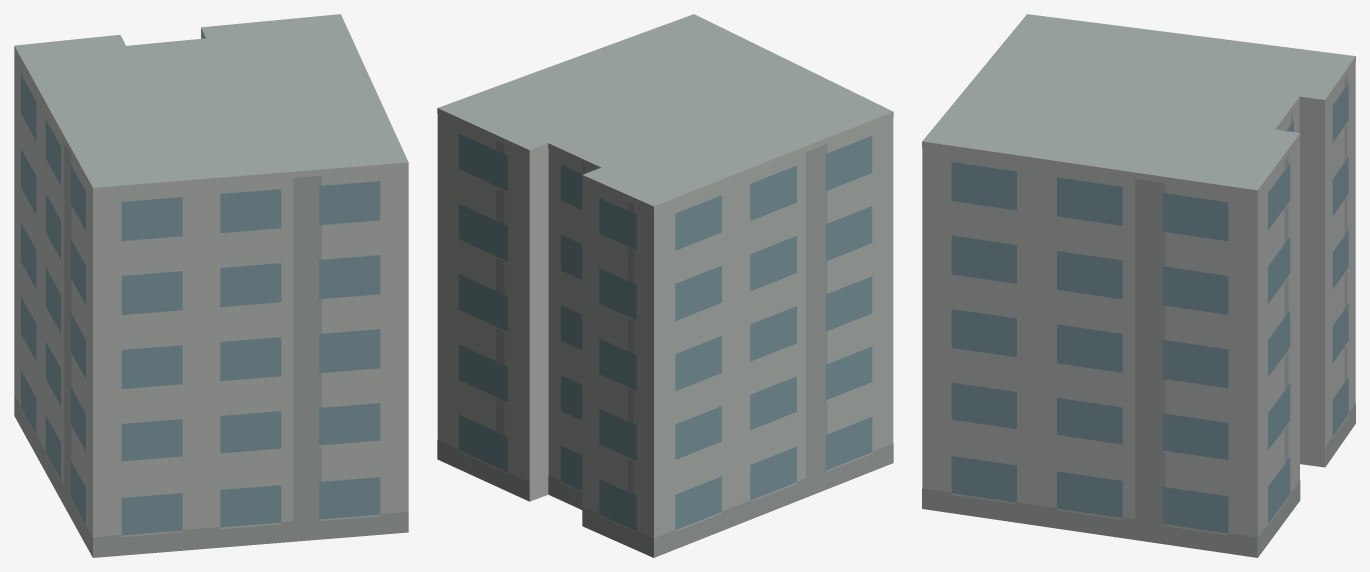
File: survey-upis-32951586.glb
The picture shows the model from 3 angles, left to right: view 1: azimuth 30°, elevation 25°; view 2: azimuth 150°, elevation 25°; view 3: azimuth 270°, elevation 25°; orthographic projection. The views are drawn at different scales.
Visible parts, largest first — view 1: survey-upis-32951586.tmp; view 2: survey-upis-32951586.tmp; view 3: survey-upis-32951586.tmp.
Part boxes in pixels (<box>): survey-upis-32951586.tmp: <box>14,14,408,557</box>; survey-upis-32951586.tmp: <box>437,14,893,557</box>; survey-upis-32951586.tmp: <box>922,14,1355,557</box>.
Size of the model in its own units: 14.84 by 14.4 by 15.41.
